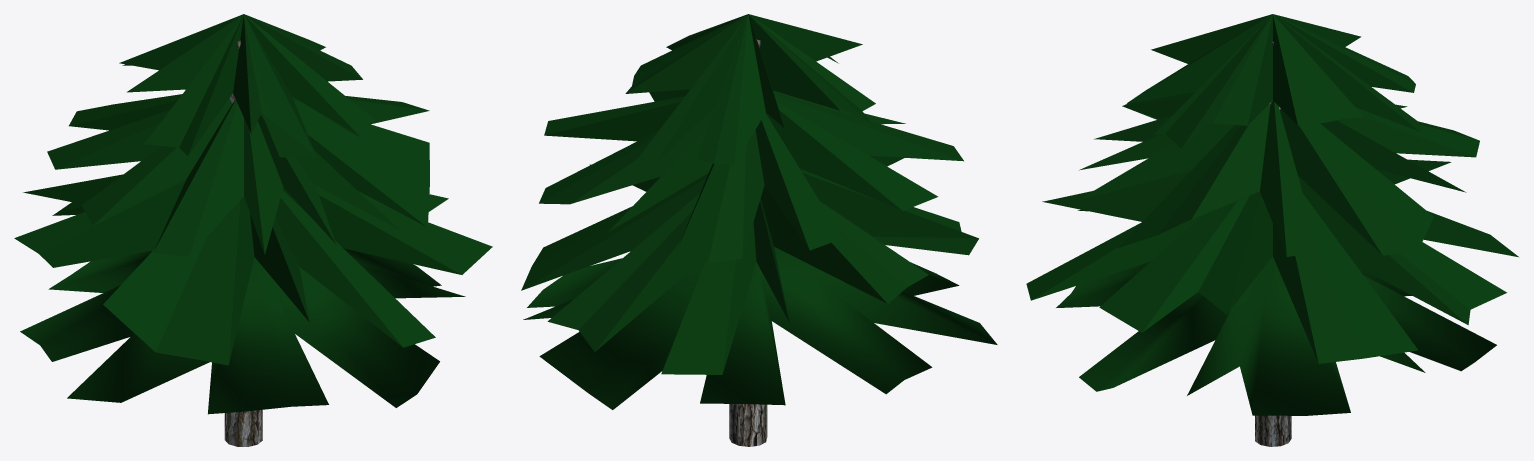
The model's file is tree_pine.gltf.
3 renders of one model, left to right at view 1: azimuth 30°, elevation 25°; view 2: azimuth 150°, elevation 25°; view 3: azimuth 270°, elevation 25°, orthographic.
Parts seen in each view (by area): view 1: 锥体.001, 锥体.003, 锥体, 锥体.002, 柱体; view 2: 锥体.001, 锥体.003, 锥体, 锥体.002, 柱体; view 3: 锥体.001, 锥体.003, 锥体, 锥体.002, 柱体.
Part boxes in pixels (<box>): 锥体.001: <box>14,174,492,365</box>; 锥体.003: <box>47,94,429,256</box>; 锥体: <box>20,248,465,414</box>; 锥体.002: <box>119,14,374,157</box>; 柱体: <box>224,40,262,446</box>; 锥体.001: <box>521,155,978,374</box>; 锥体.003: <box>539,89,963,262</box>; 锥体: <box>523,247,997,409</box>; 锥体.002: <box>625,14,875,164</box>; 柱体: <box>729,39,767,446</box>; 锥体.001: <box>1026,159,1518,363</box>; 锥体.003: <box>1077,92,1479,256</box>; 锥体: <box>1056,256,1496,415</box>; 锥体.002: <box>1127,14,1420,148</box>; 柱体: <box>1255,41,1291,446</box>.
Bounding box in the file's own units: 6.98 × 6.97 × 7.33.
Materials: 2 (1 with a texture image).
